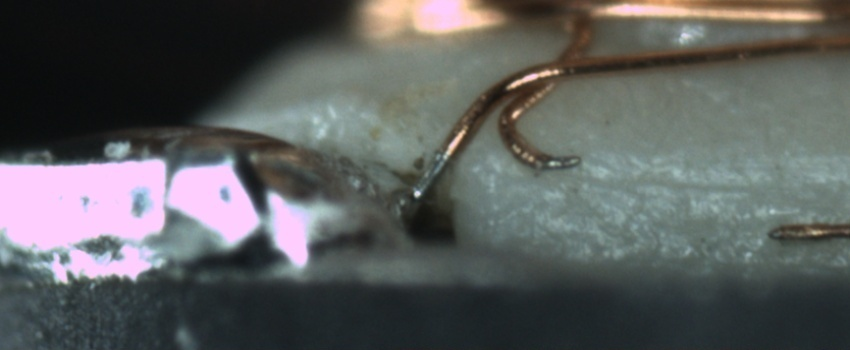DL: (594, 151, 849, 206)
TS: (407, 151, 449, 205)
TTCW: (406, 140, 455, 200)
